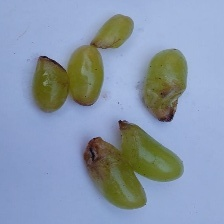grapes: (25, 36, 216, 219)
